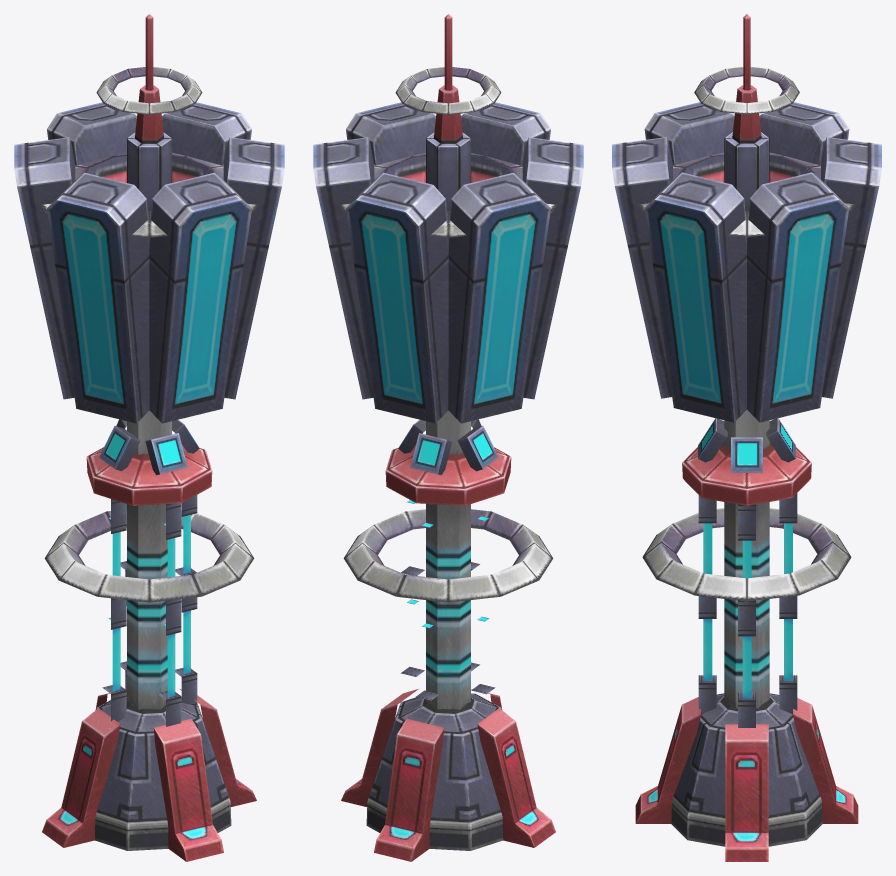
File: glt.gltf
3 views of the same model, side by side, from view 1: azimuth 30°, elevation 25°; view 2: azimuth 150°, elevation 25°; view 3: azimuth 270°, elevation 25° (orthographic).
Parts seen in each view (by area): view 1: objtower5_3; view 2: objtower5_3; view 3: objtower5_3.
Boxes of the visible parts, left/top/right/bottom form: objtower5_3: left=14, top=14, right=284, bottom=861; objtower5_3: left=313, top=14, right=583, bottom=861; objtower5_3: left=612, top=14, right=881, bottom=861.
Size of the model in its own units: 3.42 by 11.15 by 3.4.
Materials: 1 (1 with a texture image).
